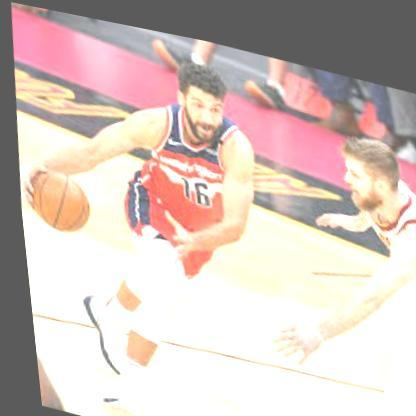basketball: (20, 163, 89, 237)
